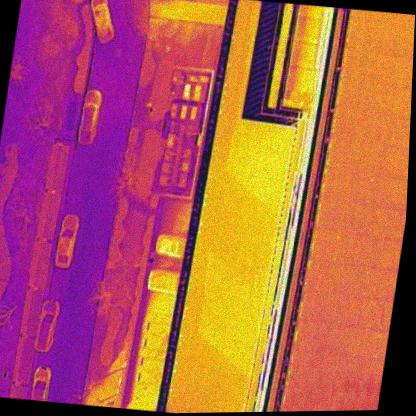Diode: (314, 197, 332, 232), (335, 76, 353, 108), (291, 320, 309, 352), (309, 230, 326, 261), (330, 109, 346, 140)
Hotspot: (366, 298, 384, 332), (325, 138, 343, 170), (345, 18, 362, 51), (340, 48, 358, 79), (361, 267, 378, 299), (282, 380, 299, 412), (320, 168, 338, 198), (372, 208, 389, 239), (331, 232, 348, 263), (366, 175, 381, 206), (304, 260, 319, 290)
Normal: (383, 55, 403, 89), (376, 112, 394, 147), (354, 18, 373, 51), (320, 291, 339, 324), (358, 78, 375, 114), (387, 116, 405, 150), (389, 177, 407, 211), (309, 352, 327, 386), (320, 354, 338, 388), (308, 290, 326, 323), (374, 53, 392, 86), (325, 198, 342, 232), (337, 200, 354, 234), (366, 19, 383, 53), (382, 147, 400, 179), (341, 170, 359, 202), (348, 202, 366, 234), (319, 230, 337, 262), (378, 23, 396, 55), (337, 264, 355, 296), (347, 79, 364, 112), (370, 81, 387, 114), (364, 113, 381, 146), (314, 321, 331, 354), (355, 171, 371, 206), (354, 236, 372, 267), (378, 240, 396, 271), (390, 26, 408, 57), (354, 110, 370, 144), (360, 205, 377, 237), (343, 234, 360, 266), (297, 353, 314, 385), (360, 144, 376, 177), (377, 176, 393, 209), (336, 139, 353, 170), (366, 238, 383, 269), (373, 270, 390, 301), (345, 295, 361, 327), (351, 327, 367, 359), (345, 356, 361, 388), (352, 49, 368, 81), (342, 110, 359, 140), (383, 209, 400, 239), (315, 262, 332, 292), (338, 326, 355, 356), (327, 324, 344, 354), (357, 357, 372, 391), (363, 51, 380, 81), (372, 145, 388, 176), (348, 141, 364, 171), (327, 263, 343, 293), (351, 266, 366, 298), (304, 321, 320, 351), (334, 355, 349, 387), (398, 57, 413, 89), (304, 383, 321, 411), (292, 383, 309, 411), (394, 148, 409, 179), (332, 168, 347, 199), (333, 295, 348, 326), (357, 297, 372, 328), (382, 85, 398, 114), (401, 27, 415, 60), (393, 87, 408, 117), (300, 291, 315, 321), (363, 329, 378, 359), (287, 351, 302, 381), (315, 385, 332, 411), (339, 385, 356, 411), (398, 118, 410, 152), (327, 387, 344, 411), (350, 388, 367, 411), (362, 389, 379, 410), (403, 89, 412, 121)
